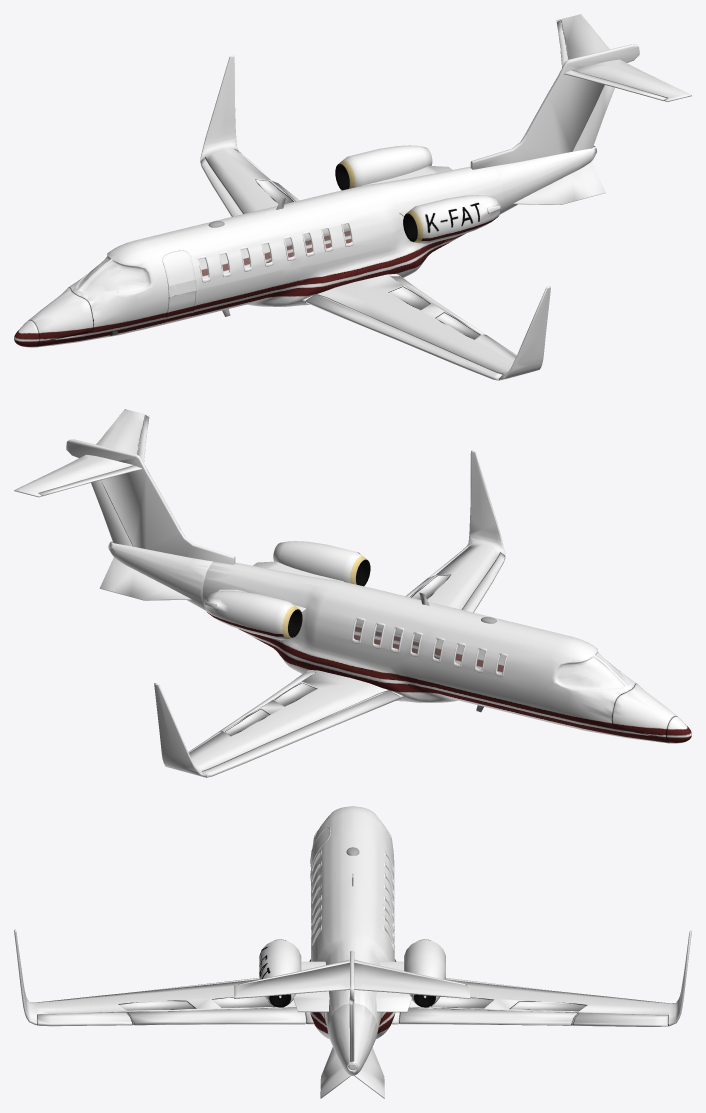
The model's file is jet.glb.
The picture shows the model from 3 angles, top to bottom: view 1: azimuth 30°, elevation 25°; view 2: azimuth 150°, elevation 25°; view 3: azimuth 270°, elevation 25°; orthographic projection. The views are drawn at different scales.
Visible parts, largest first — view 1: defaultMaterial (×8); view 2: defaultMaterial (×6); view 3: defaultMaterial (×5).
Boxes of the visible parts, x1,y1,x2,y2 form: defaultMaterial (×8): (14,14,691,380); defaultMaterial (×6): (14,409,691,777); defaultMaterial (×5): (14,806,691,1098).
Bounding box in the file's own units: 2 × 0.5419 × 1.76.
14 materials, 11 textured.
